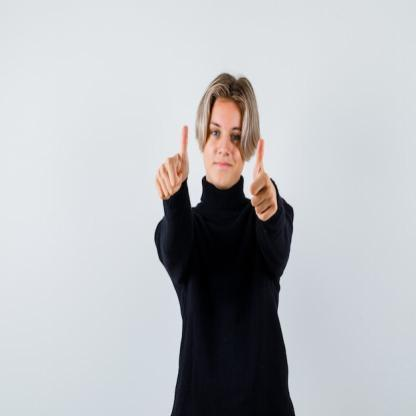thumb_up: (150, 121, 192, 202), (244, 133, 278, 225)
